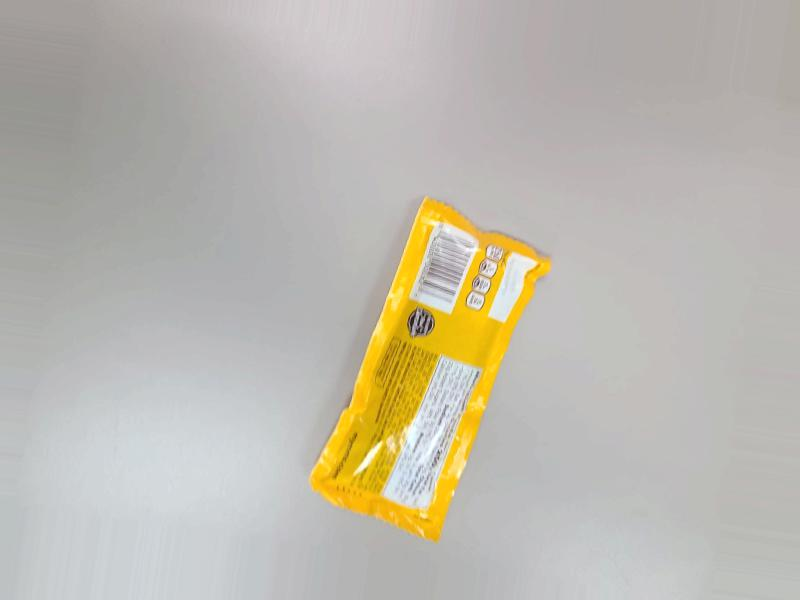m&m: (319, 187, 527, 541)
